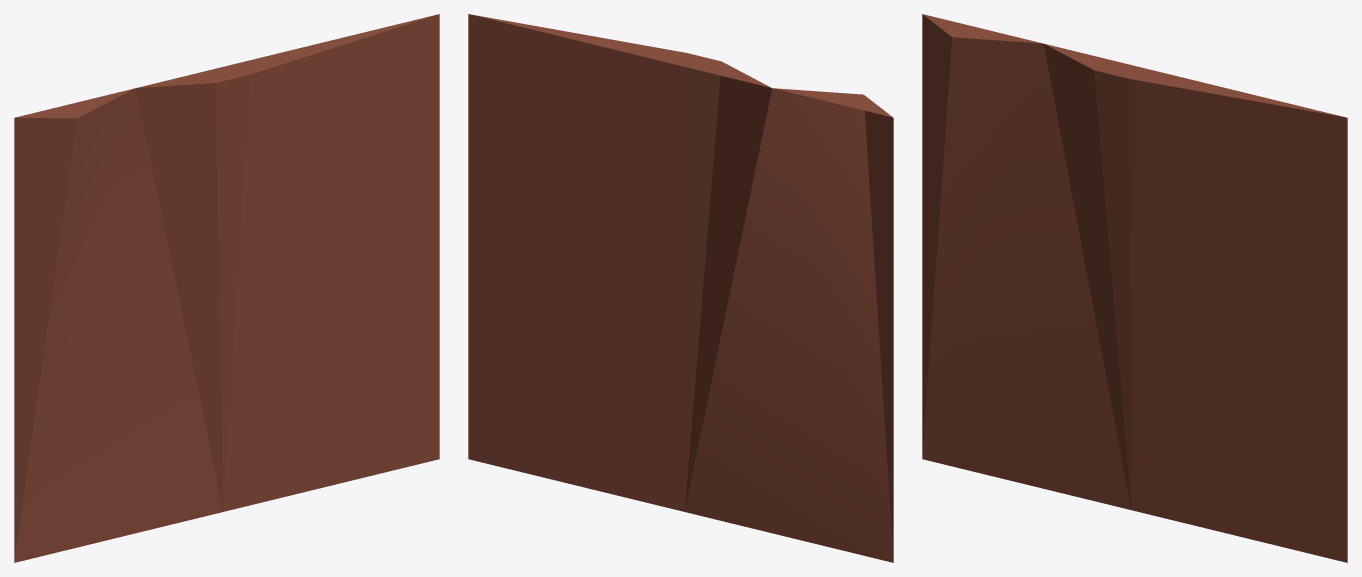
File: Wall_003.FBX
The picture shows the model from 3 angles, left to right: view 1: azimuth 30°, elevation 25°; view 2: azimuth 150°, elevation 25°; view 3: azimuth 330°, elevation 25°; orthographic projection.
Visible parts, largest first — view 1: Wall_003; view 2: Wall_003; view 3: Wall_003.
Part boxes in pixels (x1,y1,x2,y2): Wall_003: (14, 14, 439, 562); Wall_003: (468, 14, 893, 562); Wall_003: (922, 14, 1347, 562).
Size of the model in its own units: 78.74 by 78.74 by 5.22.
